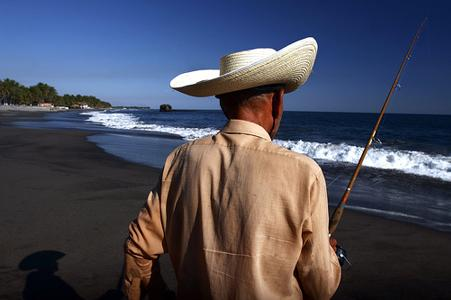person: (124, 48, 342, 300)
